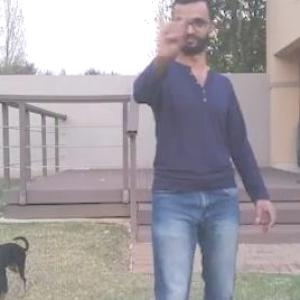takeoff-hand: (149, 0, 190, 54)
